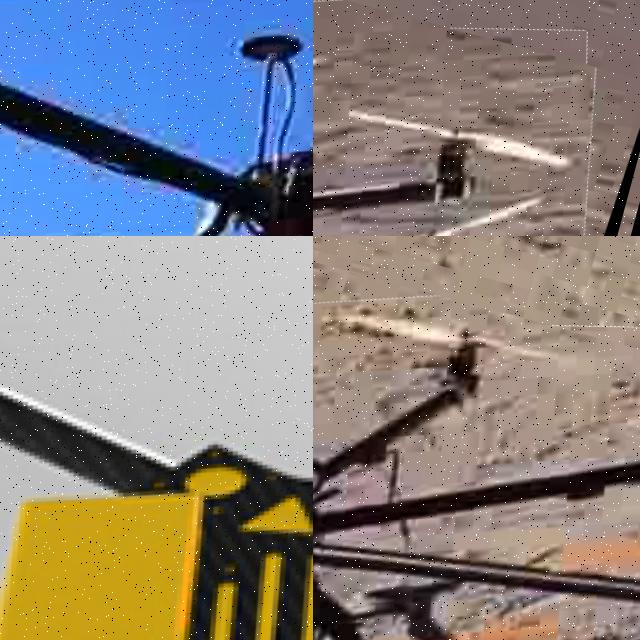0: (313, 236, 640, 640), (313, 0, 640, 236), (0, 0, 313, 236)
drone: (0, 236, 313, 640)
